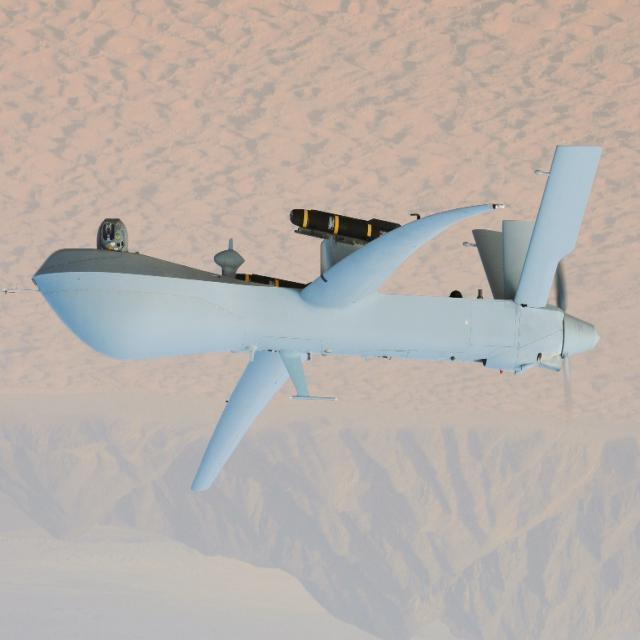missile: (290, 201, 398, 247)
